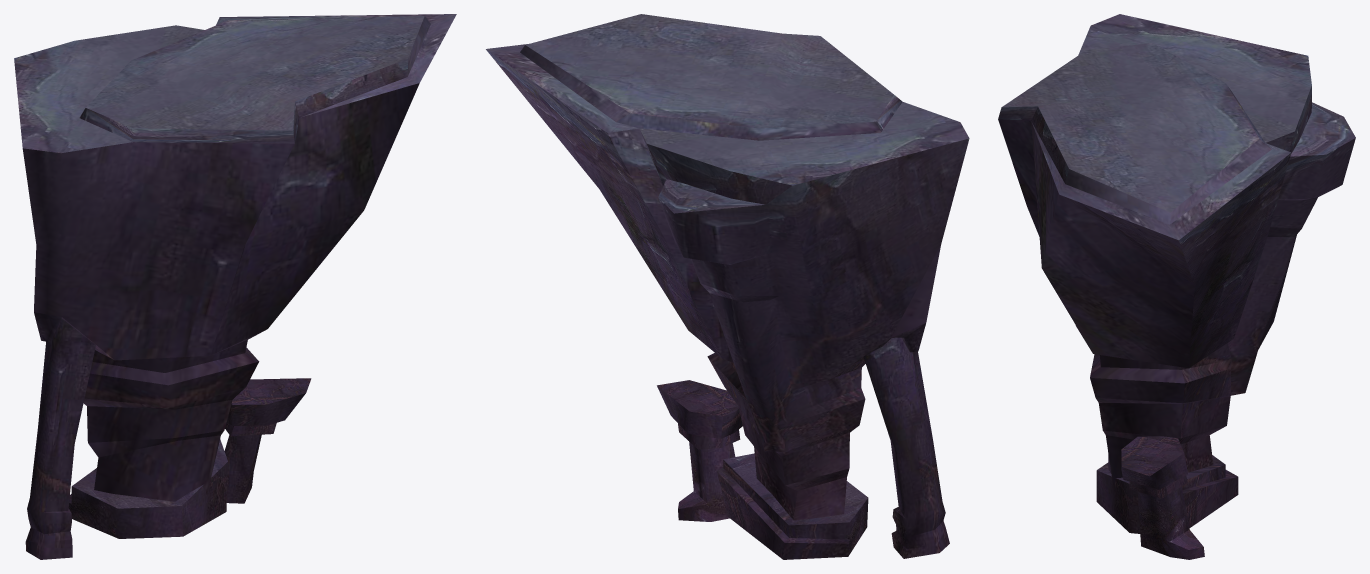
The model's file is yw_huanghunzhihu_fengbianshi02.FBX.
3 renders of one model, left to right at view 1: azimuth 30°, elevation 25°; view 2: azimuth 150°, elevation 25°; view 3: azimuth 270°, elevation 25°, orthographic.
Parts seen in each view (by area): view 1: yw_huanghunzhihu_fengbianshi02; view 2: yw_huanghunzhihu_fengbianshi02; view 3: yw_huanghunzhihu_fengbianshi02.
Part boxes in pixels (x1=…): yw_huanghunzhihu_fengbianshi02: x1=14, y1=14, x2=456, y2=559; yw_huanghunzhihu_fengbianshi02: x1=486, y1=14, x2=969, y2=559; yw_huanghunzhihu_fengbianshi02: x1=998, y1=14, x2=1355, y2=559.
Bounding box in the file's own units: 1478 × 1341 × 989.
